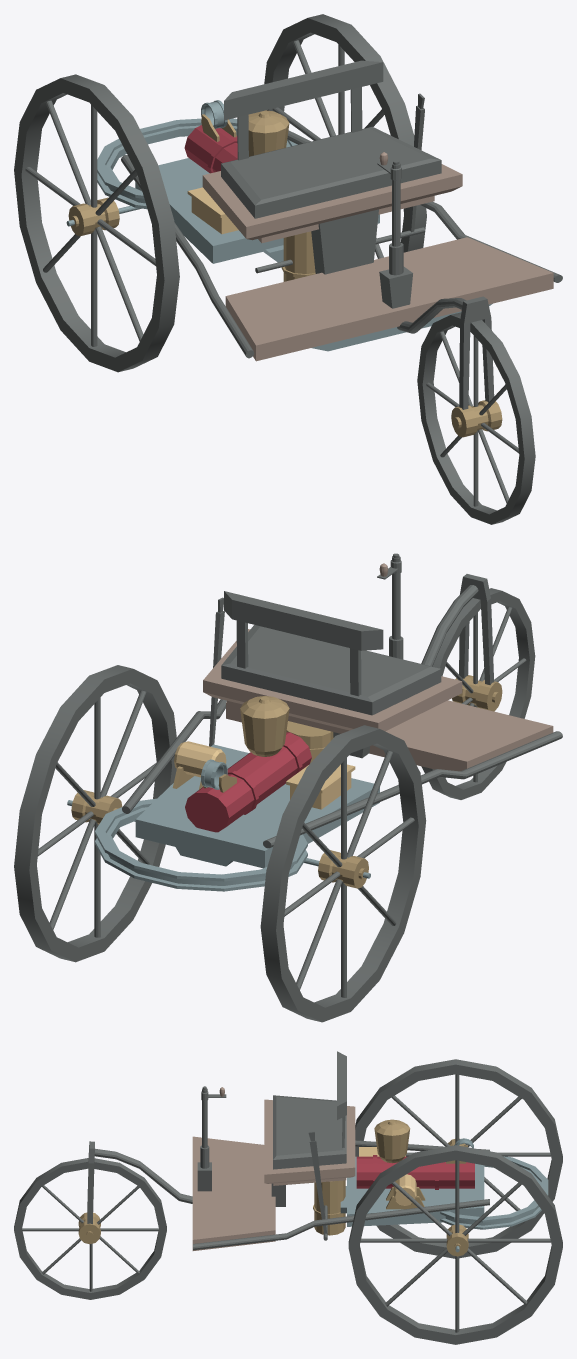
File: Auto.fbx
3 views of the same model, one above another, from view 1: azimuth 30°, elevation 25°; view 2: azimuth 150°, elevation 25°; view 3: azimuth 270°, elevation 25° (orthographic). The views are drawn at different scales.
Parts seen in each view (by area): view 1: polySurface5, polySurface22, polySurface4, polySurface6, polySurface3, polySurface50, polySurface18, polySurface8, polySurface7, polySurface10, polySurface29, Rojo (+19 smaller); view 2: polySurface22, polySurface50, polySurface4, polySurface8, polySurface5, polySurface3, Rojo, polySurface10, polySurface6, polySurface18, polySurface11, polySurface21 (+20 smaller); view 3: polySurface50, polySurface5, polySurface22, polySurface4, polySurface6, polySurface8, polySurface3, Rojo, polySurface20, polySurface10, polySurface11, polySurface27 (+15 smaller).
Boxes of the visible parts, x1,y1,x2,y2 form: polySurface5: [225, 237, 553, 361]; polySurface22: [14, 74, 179, 372]; polySurface4: [221, 126, 441, 218]; polySurface6: [417, 312, 535, 524]; polySurface3: [202, 164, 462, 243]; polySurface50: [264, 14, 426, 252]; polySurface18: [224, 60, 383, 120]; polySurface8: [135, 158, 379, 263]; polySurface7: [311, 209, 378, 274]; polySurface10: [97, 118, 297, 209]; polySurface29: [459, 296, 494, 409]; Rojo: [184, 125, 237, 173]; polySurface22: [260, 725, 426, 1022]; polySurface50: [14, 665, 176, 962]; polySurface4: [221, 625, 441, 715]; polySurface8: [135, 744, 379, 868]; polySurface5: [226, 700, 553, 771]; polySurface3: [203, 629, 462, 733]; Rojo: [185, 732, 311, 832]; polySurface10: [95, 798, 307, 891]; polySurface6: [421, 588, 535, 799]; polySurface18: [224, 591, 383, 650]; polySurface11: [240, 696, 289, 756]; polySurface21: [263, 731, 562, 848]; polySurface50: [348, 1145, 562, 1344]; polySurface5: [192, 1136, 275, 1250]; polySurface22: [355, 1059, 562, 1258]; polySurface4: [273, 1095, 346, 1169]; polySurface6: [14, 1158, 166, 1299]; polySurface8: [347, 1156, 484, 1226]; polySurface3: [264, 1099, 355, 1185]; Rojo: [356, 1155, 474, 1189]; polySurface20: [193, 1199, 489, 1250]; polySurface10: [440, 1156, 548, 1229]; polySurface11: [374, 1119, 410, 1163]; polySurface27: [313, 1180, 345, 1235].
Bounding box in the file's own units: 5.98 × 5.57 × 12.58.
